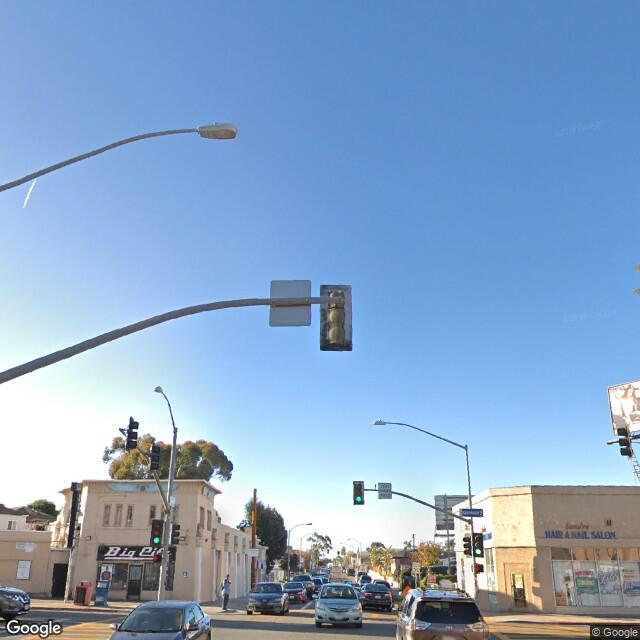light: (192, 120, 246, 144)
window: (594, 548, 620, 587), (550, 546, 576, 580), (126, 501, 135, 532)
